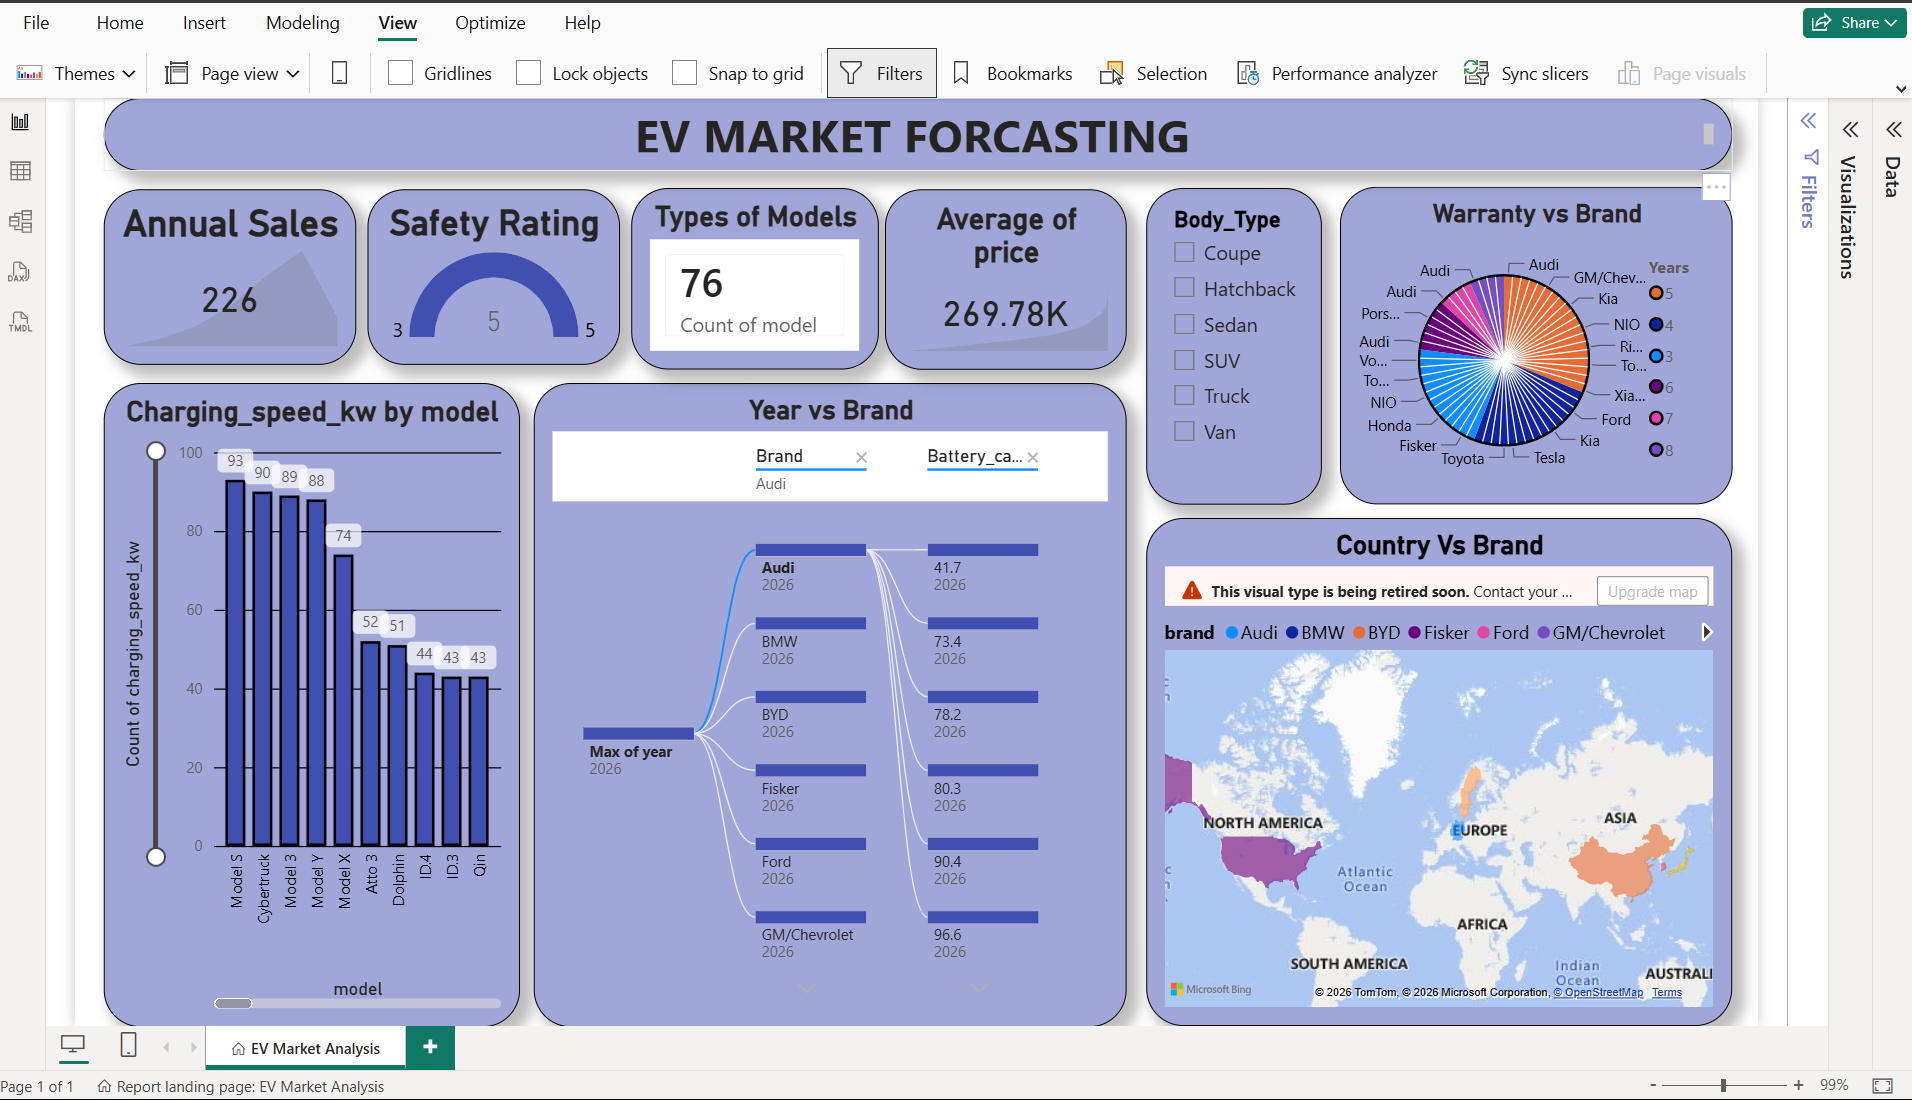

Layout of this report page (visuals, bound fields, positions):
{"tool":"powerbi","page":{"name":"EV Market Analysis","canvas":[1365,753],"ordinal":0},"visuals":[{"type":"kpi","title":"Annual Sales","fields":{"TrendLine":["ev_market_2026.year"],"Indicator":["CountNonNull(ev_market_2026.annual_sales_units)"]},"box":[23.6,74.4,204.6,142.6],"z":0},{"type":"lineClusteredColumnComboChart","title":"Charging_speed_kw by model","fields":{"Category":["ev_market_2026.model"],"Y":["CountNonNull(ev_market_2026.charging_speed_kw)"]},"box":[23.6,230.6,337.3,522],"z":2000},{"type":"slicer","fields":{"Values":["ev_market_2026.body_type"]},"box":[869.2,73.2,142.6,256.7],"z":3000},{"type":"decompositionTreeVisual","title":"Year vs Brand","fields":{"ExplainBy":["ev_market_2026.brand","ev_market_2026.battery_capacity_kwh"],"Analyze":["Max(ev_market_2026.year)"]},"box":[372,230.6,481.1,522],"z":4000},{"type":"gauge","title":"Safety Rating","fields":{"Y":["Max(ev_market_2026.safety_rating)"],"MinValue":["Min(ev_market_2026.safety_rating)1"],"MaxValue":["Max(ev_market_2026.safety_rating)"]},"box":[236.8,74.4,204.6,142.6],"z":5000},{"type":"cardVisual","title":"Types of Models","fields":{"Data":["Count(ev_market_2026.model)"]},"box":[451.4,73.2,200.9,147.6],"z":6000},{"type":"kpi","title":"Average of price","fields":{"Indicator":["Avg(ev_market_2026.price_usd)"],"TrendLine":["ev_market_2026.price_usd"]},"box":[657.2,74.4,195.9,146.3],"z":7000},{"type":"pieChart","title":"Warranty vs Brand","fields":{"Category":["ev_market_2026.warranty_years"],"Y":["Count(ev_market_2026.brand)"],"Series":["ev_market_2026.brand"]},"box":[1025.5,71.9,318.7,257.9],"z":8000},{"type":"filledMap","title":"Country Vs Brand","fields":{"Category":["ev_market_2026.country_of_origin"],"Series":["ev_market_2026.brand"]},"box":[869.2,341,474.9,411.7],"z":9000},{"type":"textbox","box":[23.6,0,1320.6,59.5],"z":10000}]}

Visuals, with their boxes on the page's 1365x753 design canvas (x1, y1, x2, y2). These are canvas units, not pixel positions in the 1912x1100 screenshot, which may show the page scaled, cropped or inside an application window:
"Annual Sales" kpi: select_region(24, 74, 228, 217)
"Charging_speed_kw by model" lineClusteredColumnComboChart: select_region(24, 231, 361, 753)
slicer - ev_market_2026.body_type: select_region(869, 73, 1012, 330)
"Year vs Brand" decompositionTreeVisual: select_region(372, 231, 853, 753)
"Safety Rating" gauge: select_region(237, 74, 441, 217)
"Types of Models" cardVisual: select_region(451, 73, 652, 221)
"Average of price" kpi: select_region(657, 74, 853, 221)
"Warranty vs Brand" pieChart: select_region(1026, 72, 1344, 330)
"Country Vs Brand" filledMap: select_region(869, 341, 1344, 753)
textbox: select_region(24, 0, 1344, 60)
